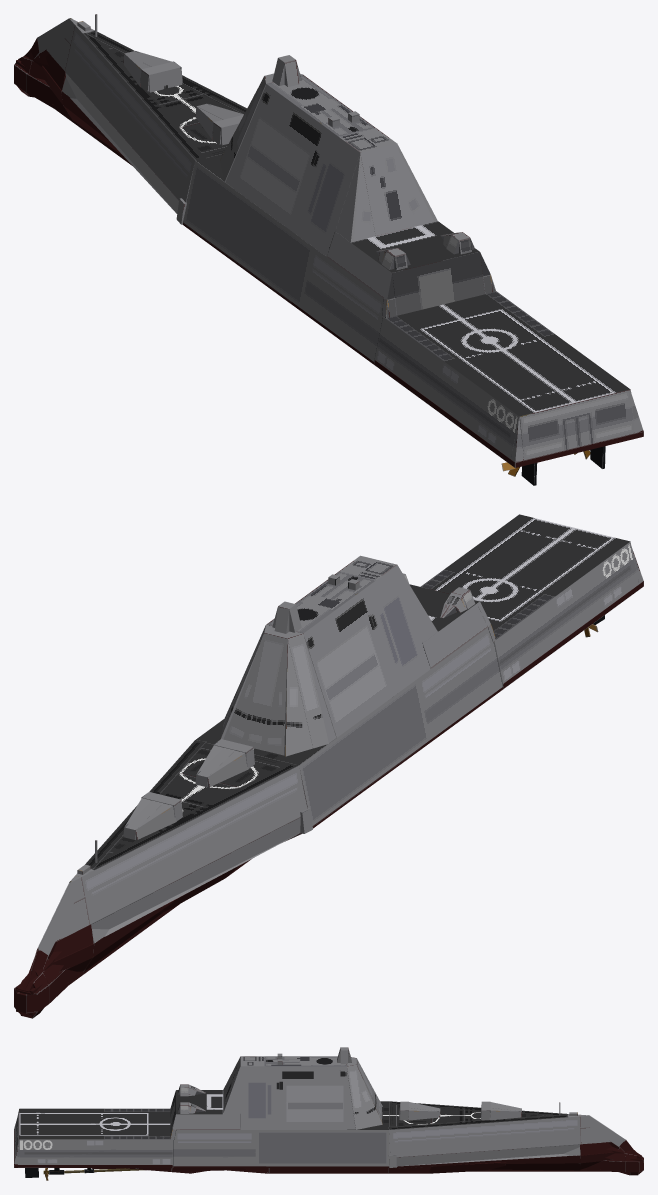
Rendered from zumwalt.gltf.
3 renders of one model, top to bottom at view 1: azimuth 30°, elevation 25°; view 2: azimuth 150°, elevation 25°; view 3: azimuth 270°, elevation 25°, orthographic. The views are drawn at different scales.
Visible parts, largest first — view 1: bone5 (×13), bone (×8); view 2: bone5 (×14), bone (×10); view 3: bone (×28), bone5 (×5), turret1, turret2, bone3.
Part boxes in pixels (x1,y1,x2,y2): bone5 (×13): (26,25,643,467); bone (×8): (65,30,479,364); bone5 (×14): (38,514,643,961); bone (×10): (85,555,479,929); bone (×28): (14,1056,625,1173); bone5 (×5): (19,1058,567,1167); turret1: (489,1110,521,1120); turret2: (408,1110,440,1120); bone3: (64,1168,146,1173).
Bounding box in the file's own units: 20.73 × 33.28 × 152.
Materials: 1 (1 with a texture image).
